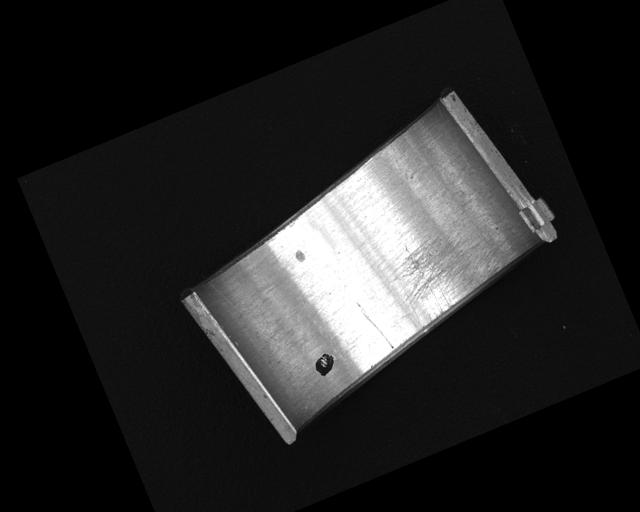blot: (311, 350, 340, 378)
bruise: (292, 247, 307, 265)
nick: (208, 264, 281, 358), (354, 294, 394, 356)
scratch: (384, 214, 512, 332)
